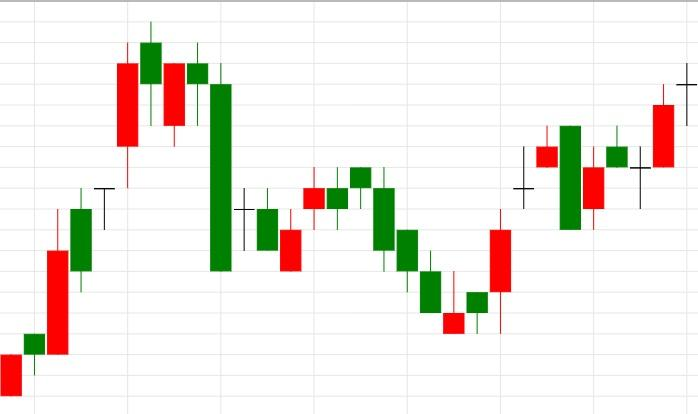bearish_engulfing_fall: (442, 125, 582, 335)
inverse_hammer_rise: (349, 166, 466, 335)
